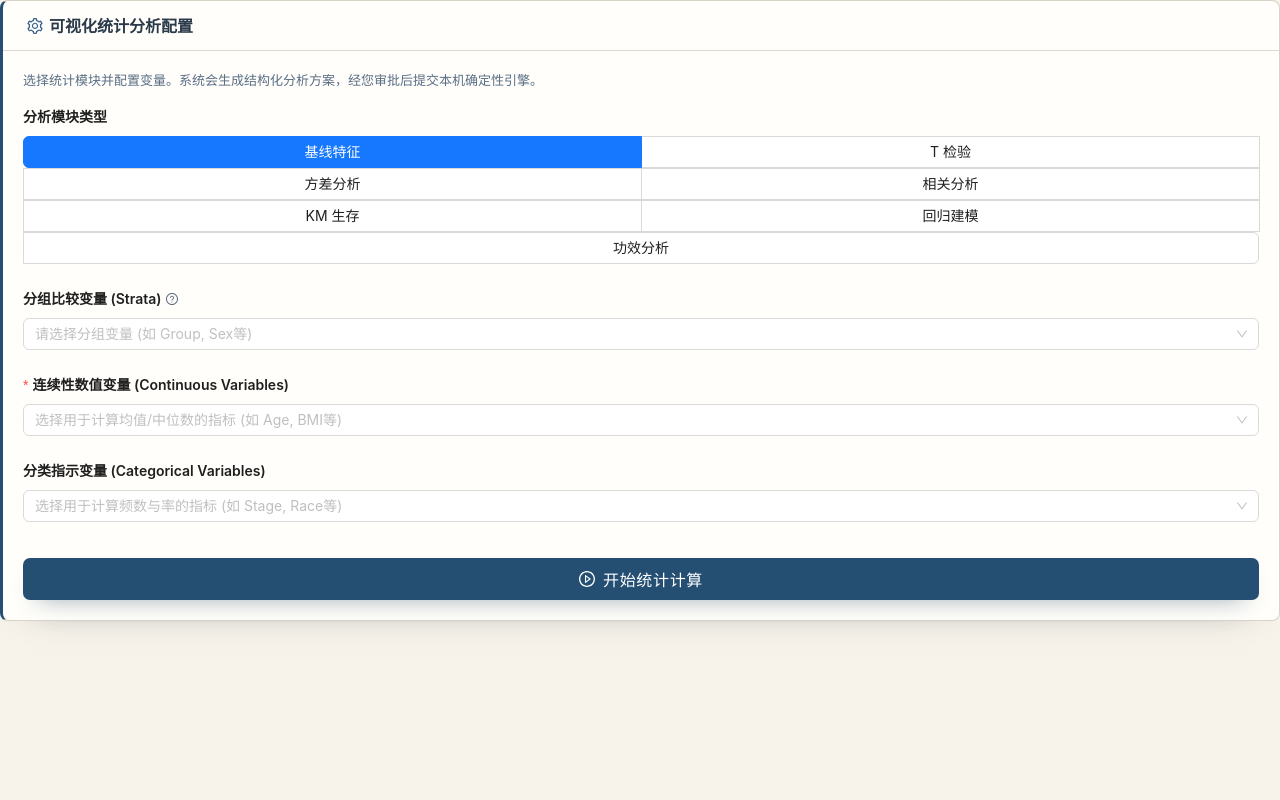
Scenario: AnalysisConfigurator › shows correlation fields when the module is selected
Click the radio button labelled "相关分析" at (950, 184), box [641, 168, 1260, 200]
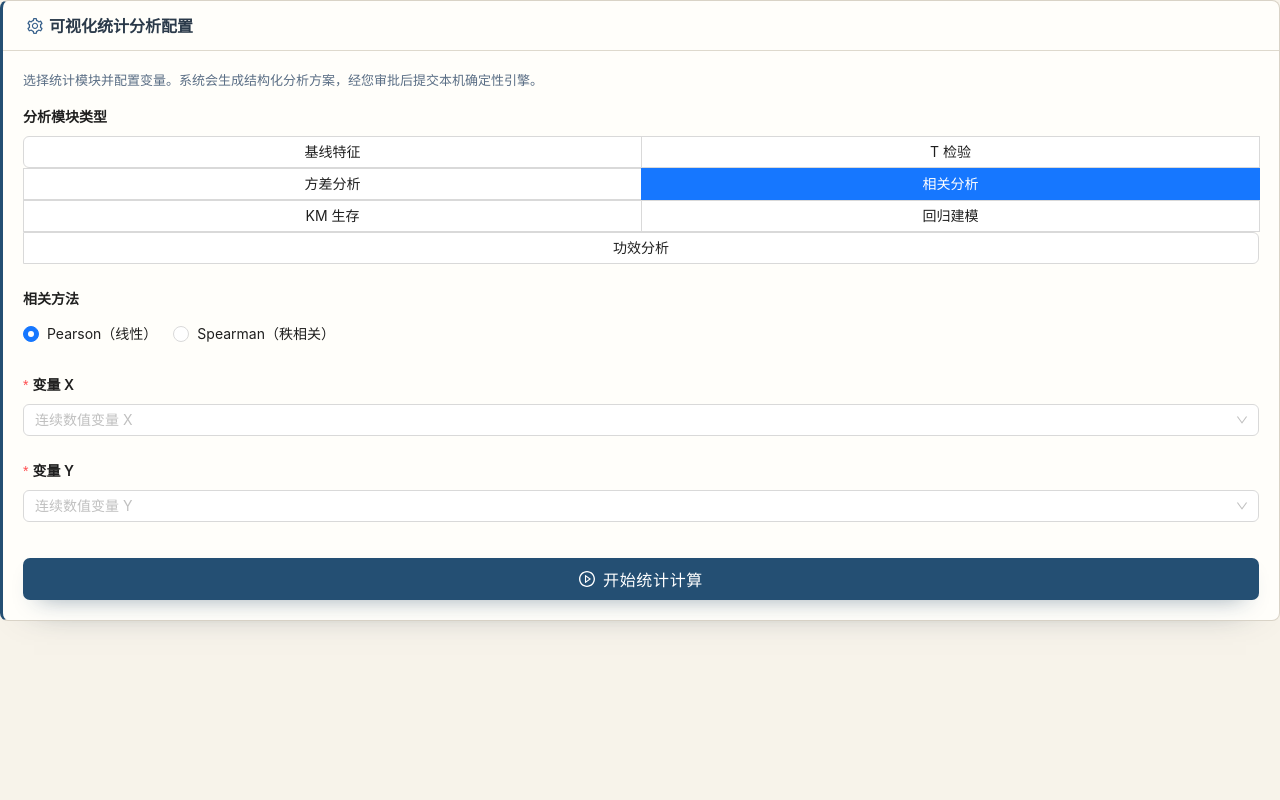
Expected: the dropdown labelled "变量 X" is shown, [35, 405, 1229, 435]
Expected: the dropdown labelled "变量 Y" is shown, [35, 491, 1229, 521]
Expected: the radio button labelled "Pearson（线性）" is shown, [23, 323, 165, 345]
